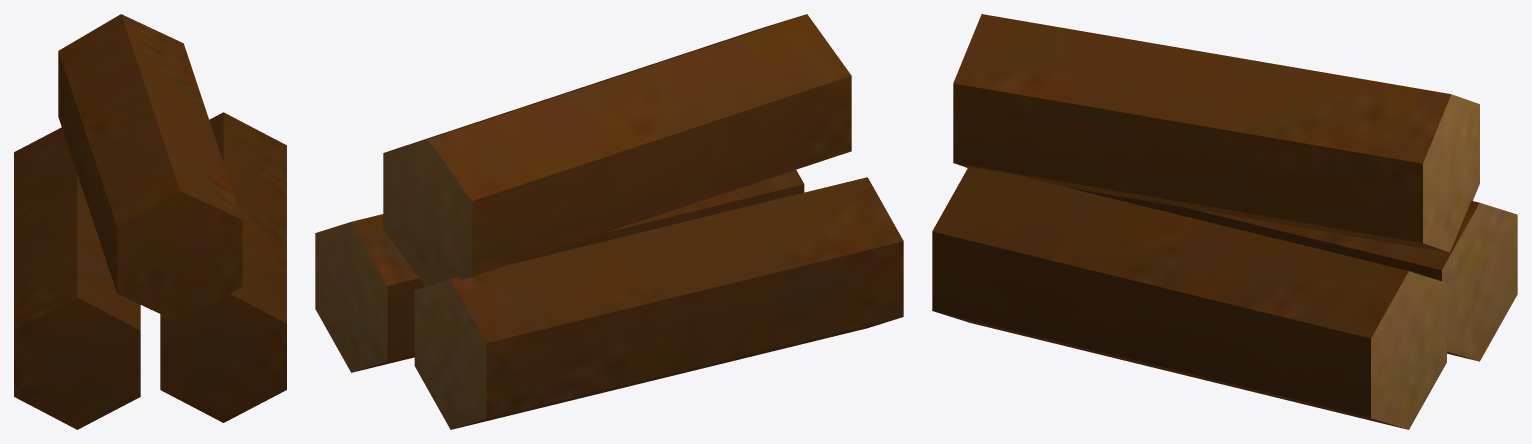
File: wood.glb
The picture shows the model from 3 angles, left to right: view 1: azimuth 30°, elevation 25°; view 2: azimuth 150°, elevation 25°; view 3: azimuth 270°, elevation 25°; orthographic projection. The views are drawn at different scales.
Parts seen in each view (by area): view 1: wood; view 2: wood; view 3: wood.
Boxes of the visible parts, x1,y1,x2,y2 form: wood: [14, 14, 286, 429]; wood: [315, 14, 903, 429]; wood: [932, 14, 1517, 429].
Bounding box in the file's own units: 0.2804 × 0.162 × 0.3005.
Materials: 1 (1 with a texture image).
